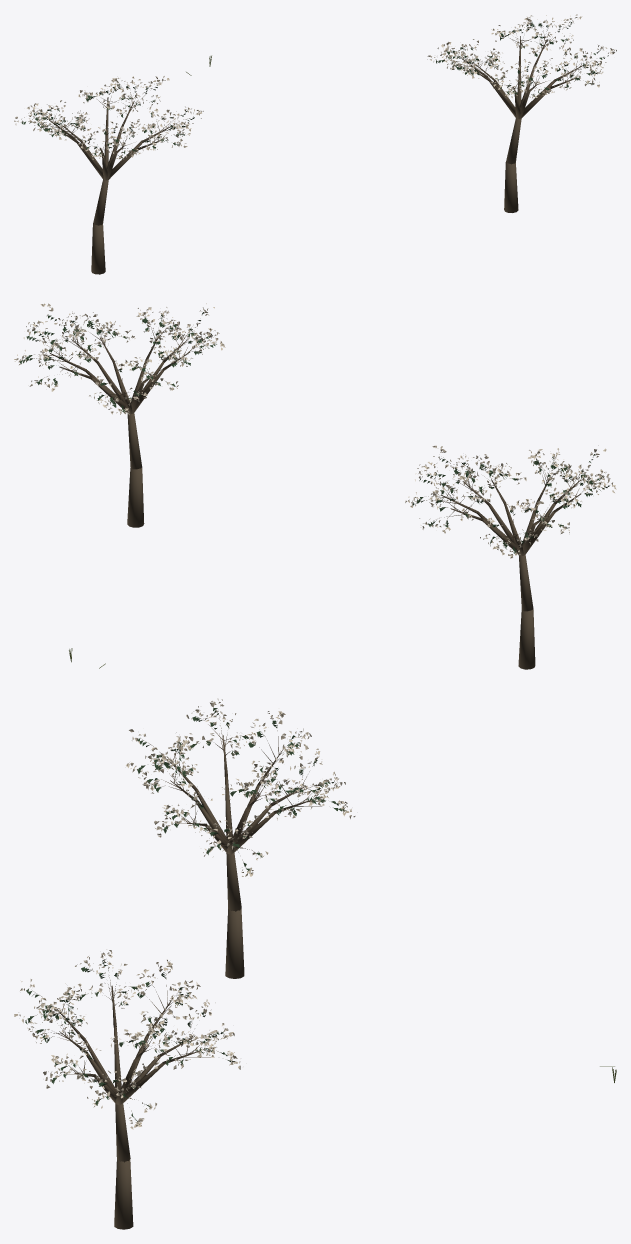
File: nuanxiangwu.glb
3 views of the same model, one above another, from view 1: azimuth 30°, elevation 25°; view 2: azimuth 150°, elevation 25°; view 3: azimuth 270°, elevation 25° (orthographic). The views are drawn at different scales.
Visible parts, largest first — view 1: Mobile_nuanxiangwu_plants; view 2: Mobile_nuanxiangwu_plants; view 3: Mobile_nuanxiangwu_plants.
Part boxes in pixels (x1,y1,x2,y2): Mobile_nuanxiangwu_plants: (14, 14, 616, 274); Mobile_nuanxiangwu_plants: (14, 303, 616, 669); Mobile_nuanxiangwu_plants: (14, 698, 616, 1229).
Size of the model in its own units: 23.25 by 7.16 by 16.27.
